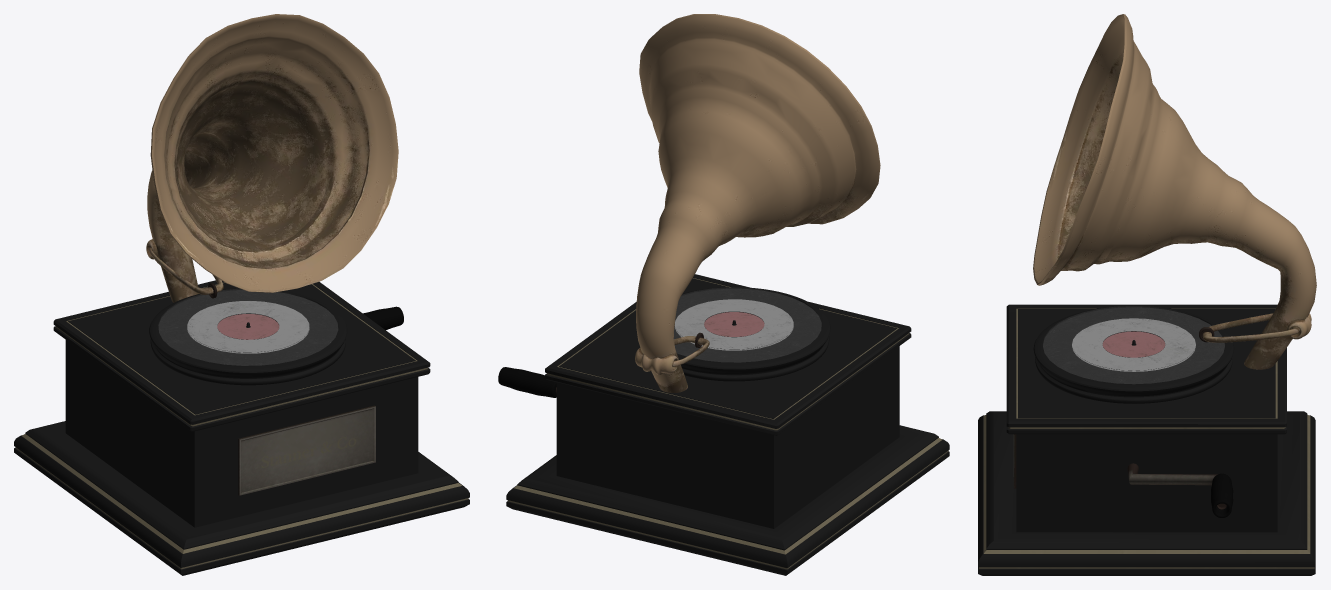
File: gramophone.glb
The picture shows the model from 3 angles, left to right: view 1: azimuth 30°, elevation 25°; view 2: azimuth 150°, elevation 25°; view 3: azimuth 270°, elevation 25°; orthographic projection. The views are drawn at different scales.
Visible parts, largest first — view 1: Gramophone_Body_0, Gramophone_Horn_0, Gramophone_Chrome_0, Gramophone_Vinyl_0, Gramophone_Vinyl Tray_0, Gramophone_Trim_0, Gramophone_VinylRingOutside_0, Gramophone_VinylRingInside_0, Handle_Handle_0; view 2: Gramophone_Body_0, Gramophone_Horn_0, Gramophone_Vinyl_0, Gramophone_Trim_0, Gramophone_VinylRingOutside_0, Gramophone_Vinyl Tray_0, Gramophone_VinylRingInside_0, Handle_Handle_0; view 3: Gramophone_Body_0, Gramophone_Horn_0, Gramophone_Vinyl_0, Gramophone_Vinyl Tray_0, Gramophone_Trim_0, Gramophone_VinylRingOutside_0, Gramophone_Chrome_0, Gramophone_VinylRingInside_0, Handle_Handle_0.
Part boxes in pixels (bbox=[...]): Gramophone_Body_0: bbox=[14, 280, 469, 575]; Gramophone_Horn_0: bbox=[146, 14, 398, 302]; Gramophone_Chrome_0: bbox=[208, 282, 375, 495]; Gramophone_Vinyl_0: bbox=[158, 288, 338, 365]; Gramophone_Vinyl Tray_0: bbox=[149, 288, 347, 385]; Gramophone_Trim_0: bbox=[15, 282, 468, 569]; Gramophone_VinylRingOutside_0: bbox=[187, 301, 309, 353]; Gramophone_VinylRingInside_0: bbox=[217, 314, 279, 339]; Handle_Handle_0: bbox=[363, 306, 403, 329]; Gramophone_Body_0: bbox=[506, 274, 949, 575]; Gramophone_Horn_0: bbox=[635, 14, 880, 392]; Gramophone_Vinyl_0: bbox=[673, 287, 821, 362]; Gramophone_Trim_0: bbox=[507, 278, 948, 569]; Gramophone_VinylRingOutside_0: bbox=[675, 299, 793, 350]; Gramophone_Vinyl Tray_0: bbox=[677, 287, 830, 381]; Gramophone_VinylRingInside_0: bbox=[704, 312, 764, 336]; Handle_Handle_0: bbox=[498, 367, 556, 397]; Gramophone_Body_0: bbox=[978, 304, 1315, 575]; Gramophone_Horn_0: bbox=[1033, 14, 1316, 369]; Gramophone_Vinyl_0: bbox=[1042, 306, 1225, 384]; Gramophone_Vinyl Tray_0: bbox=[1033, 305, 1234, 403]; Gramophone_Trim_0: bbox=[979, 308, 1314, 568]; Gramophone_VinylRingOutside_0: bbox=[1072, 318, 1195, 371]; Gramophone_Chrome_0: bbox=[1013, 327, 1226, 509]; Gramophone_VinylRingInside_0: bbox=[1102, 331, 1165, 357]; Handle_Handle_0: bbox=[1211, 473, 1233, 517].
Bounding box in the file's own units: 1.3 × 1.73 × 1.11.
Materials: 9 (6 with a texture image).
